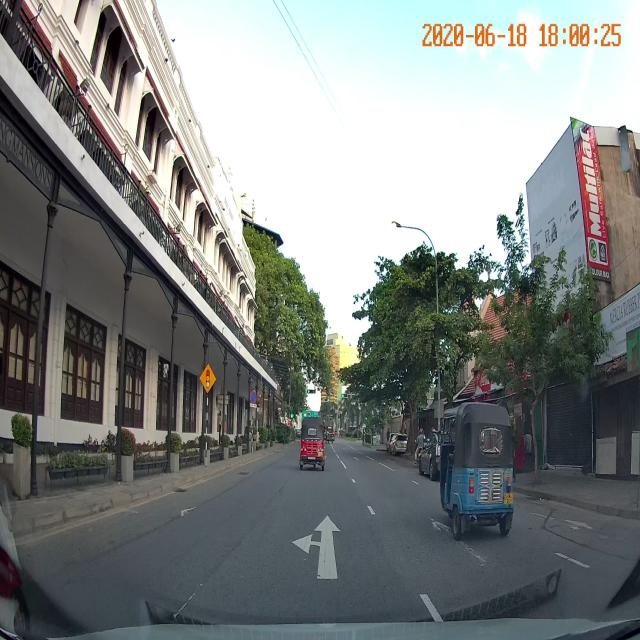forward_lft: (192, 503, 434, 599)
